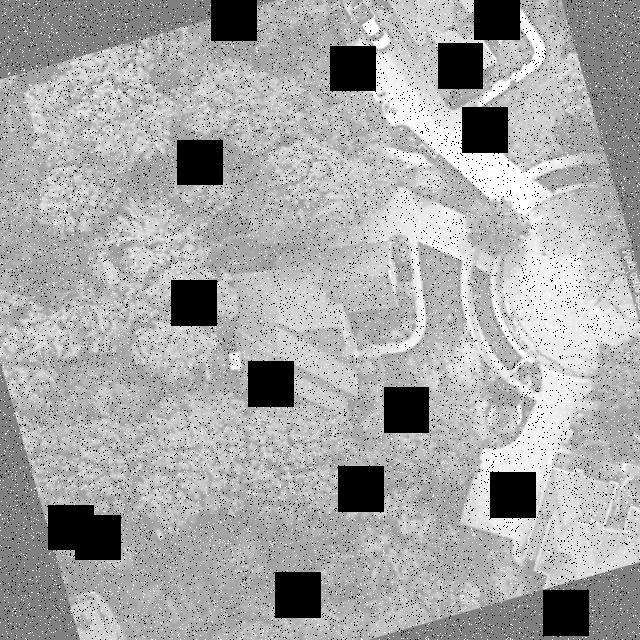Driveway: (314, 186, 483, 361)
Extra Driveway: (474, 231, 502, 275)
Extra Lawn: (471, 266, 541, 386)
Extra Sidewalk: (473, 310, 528, 396)
House: (235, 241, 394, 413)
Other: (386, 148, 443, 200), (486, 403, 508, 429), (227, 351, 241, 370)
Sidewalk: (459, 261, 485, 360)
